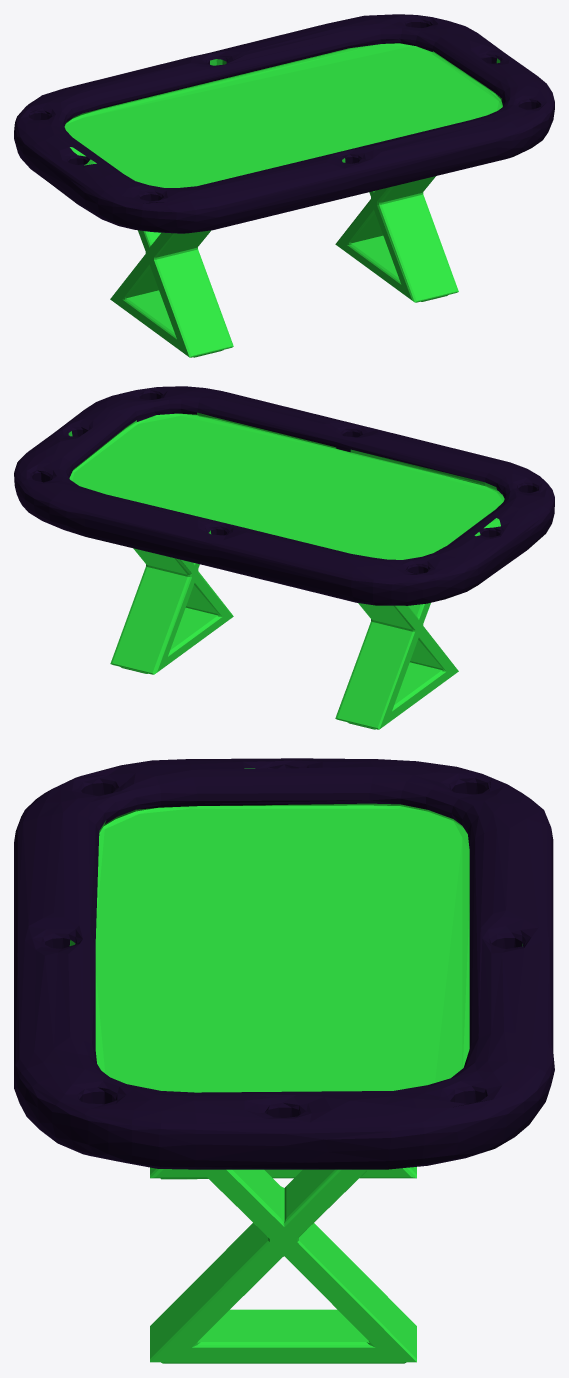
Rendered from PokerTableLowPollyColor.glb.
3 views of the same model, one above another, from view 1: azimuth 30°, elevation 25°; view 2: azimuth 150°, elevation 25°; view 3: azimuth 270°, elevation 25° (orthographic). The views are drawn at different scales.
Parts seen in each view (by area): view 1: Mesh1.002, Mesh1.001; view 2: Mesh1.002, Mesh1.001; view 3: Mesh1.002, Mesh1.001.
Boxes of the visible parts, x1,y1,x2,y2 form: Mesh1.002: (64,43,502,357); Mesh1.001: (14,14,554,233); Mesh1.002: (68,412,504,729); Mesh1.001: (14,386,554,605); Mesh1.002: (69,768,522,1363); Mesh1.001: (14,758,554,1169).
Bounding box in the file's own units: 1.91 × 0.7789 × 1.17.
